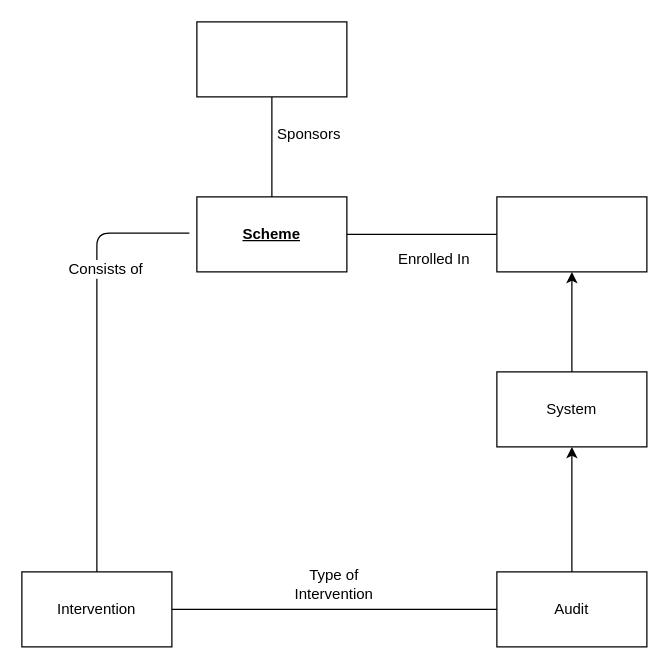
Some shapes in this 669 by 669 pixel diagram are drawn without their labels. The box of each missing label's shape, as (x1, y1, x2, y2) in pixels:
Competent Authority: (196, 21, 347, 97)
Report: (496, 196, 647, 272)
